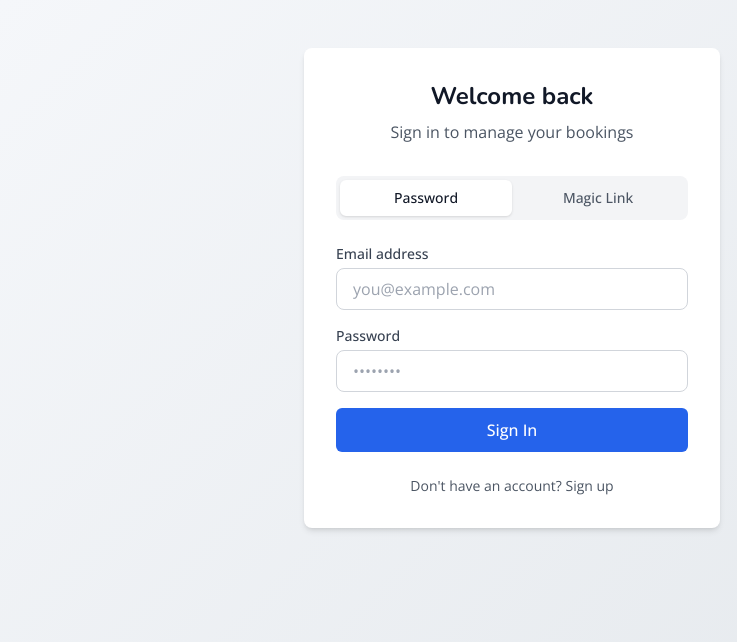
LR-LG UI & structure › LR-LG-007: error region has NO role=alert/aria-live (current a11y defect, fix in F8)
Type "a@example.com" into the field labelled "Email address". click: (512, 289)
box: [336,268,688,310]
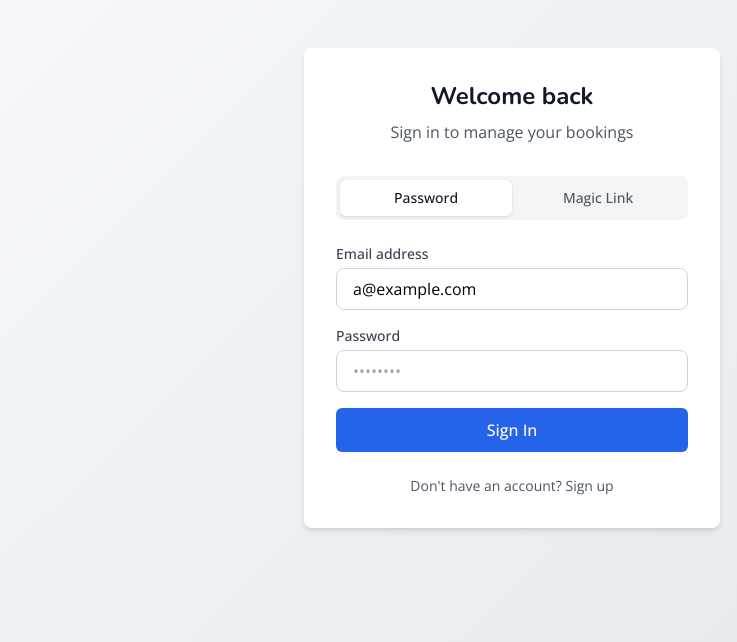
Type "wrong" into the password field labelled "Password". click: (512, 371)
box: [336,350,688,392]
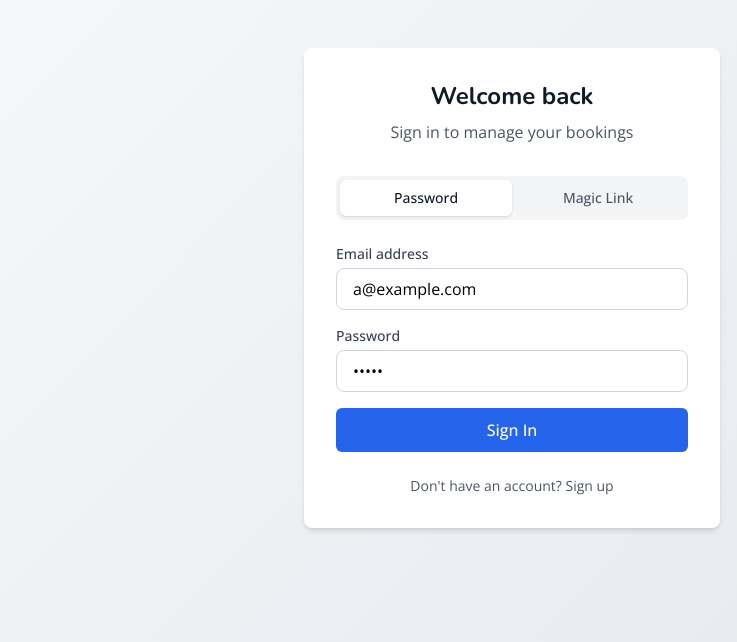
Submit the form, box [336,244,688,452]
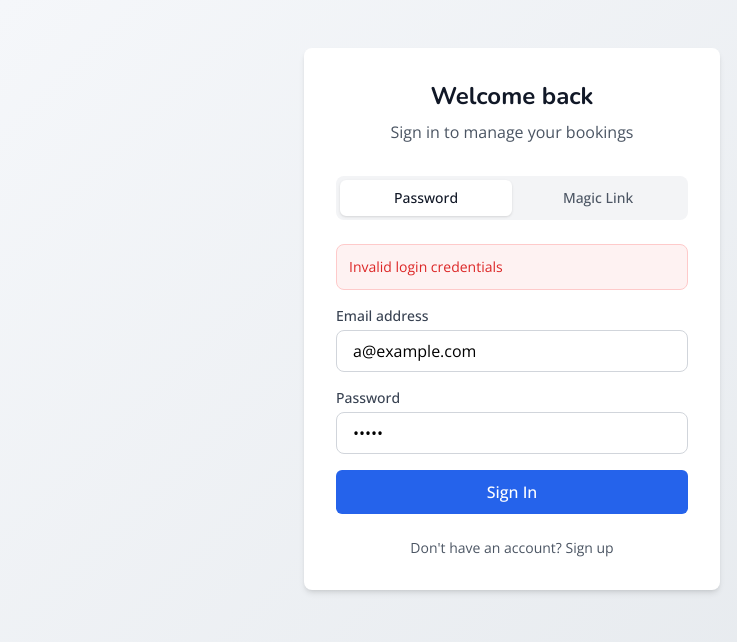
expect the text "Invalid login credentials" is shown: met, box [349,257,503,276]
